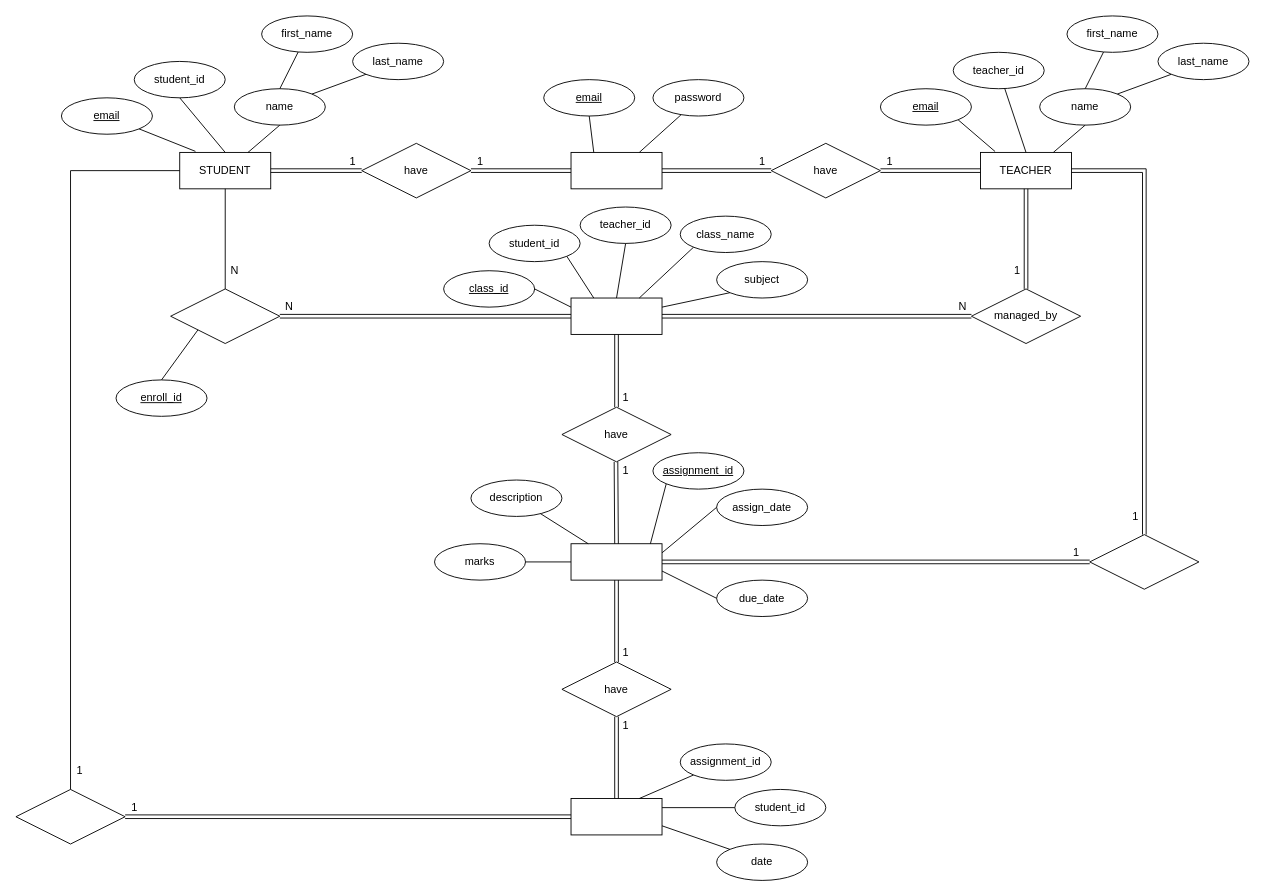
Image size: 1265x896. Some labels were removed from this diagram. The shapes that lost their labels are listed below. From the top down, each one's centre as x and y in pixels, then its label:
At (616,170): "ACCOUNT".
At (225,316): "enroll".
At (616,315): "CLASS".
At (616,561): "ASSIGNMENT".
At (1144,561): "assigned_by".
At (70,816): "submit".
At (616,816): "ANSWER".
